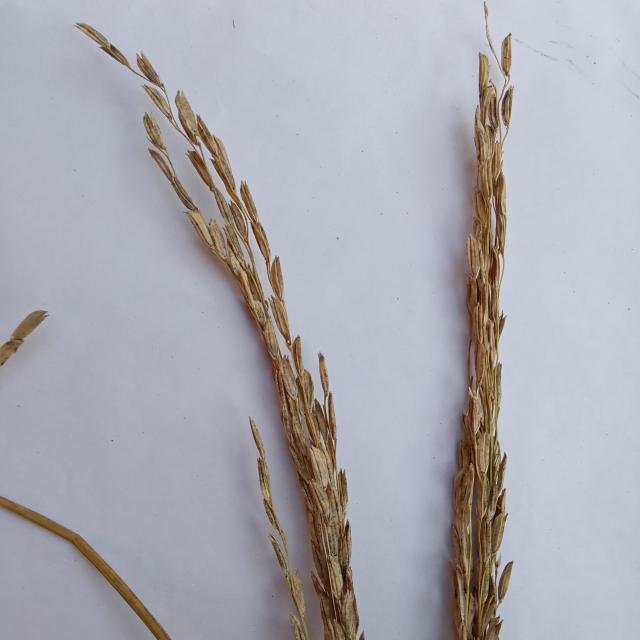Neck_Blast: (195, 177, 358, 640), (455, 91, 514, 639)
